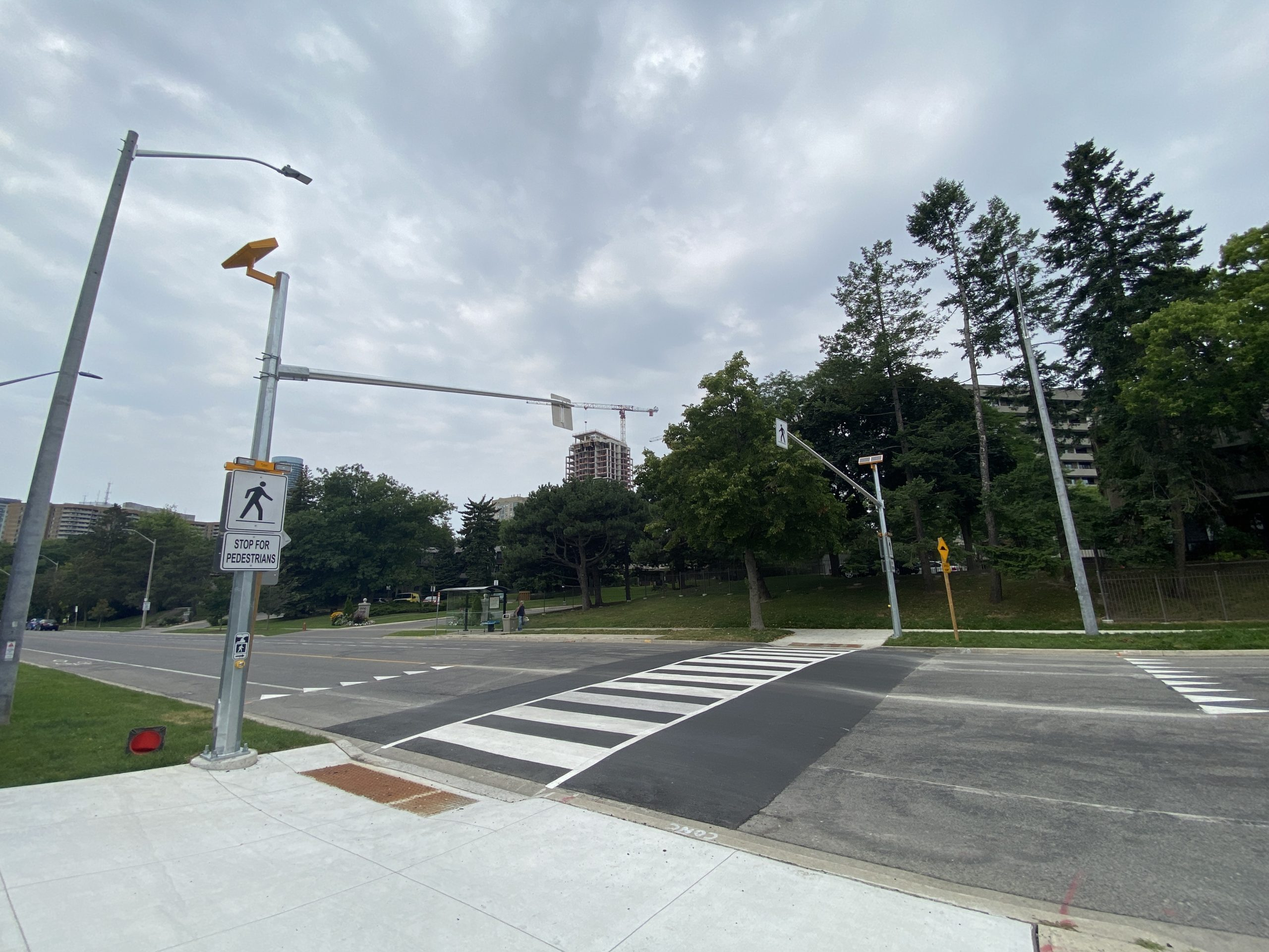CrossSign: (218, 468, 284, 569)
Crosswalk: (372, 641, 870, 786)
Tree: (1036, 147, 1269, 620), (622, 374, 820, 633)
